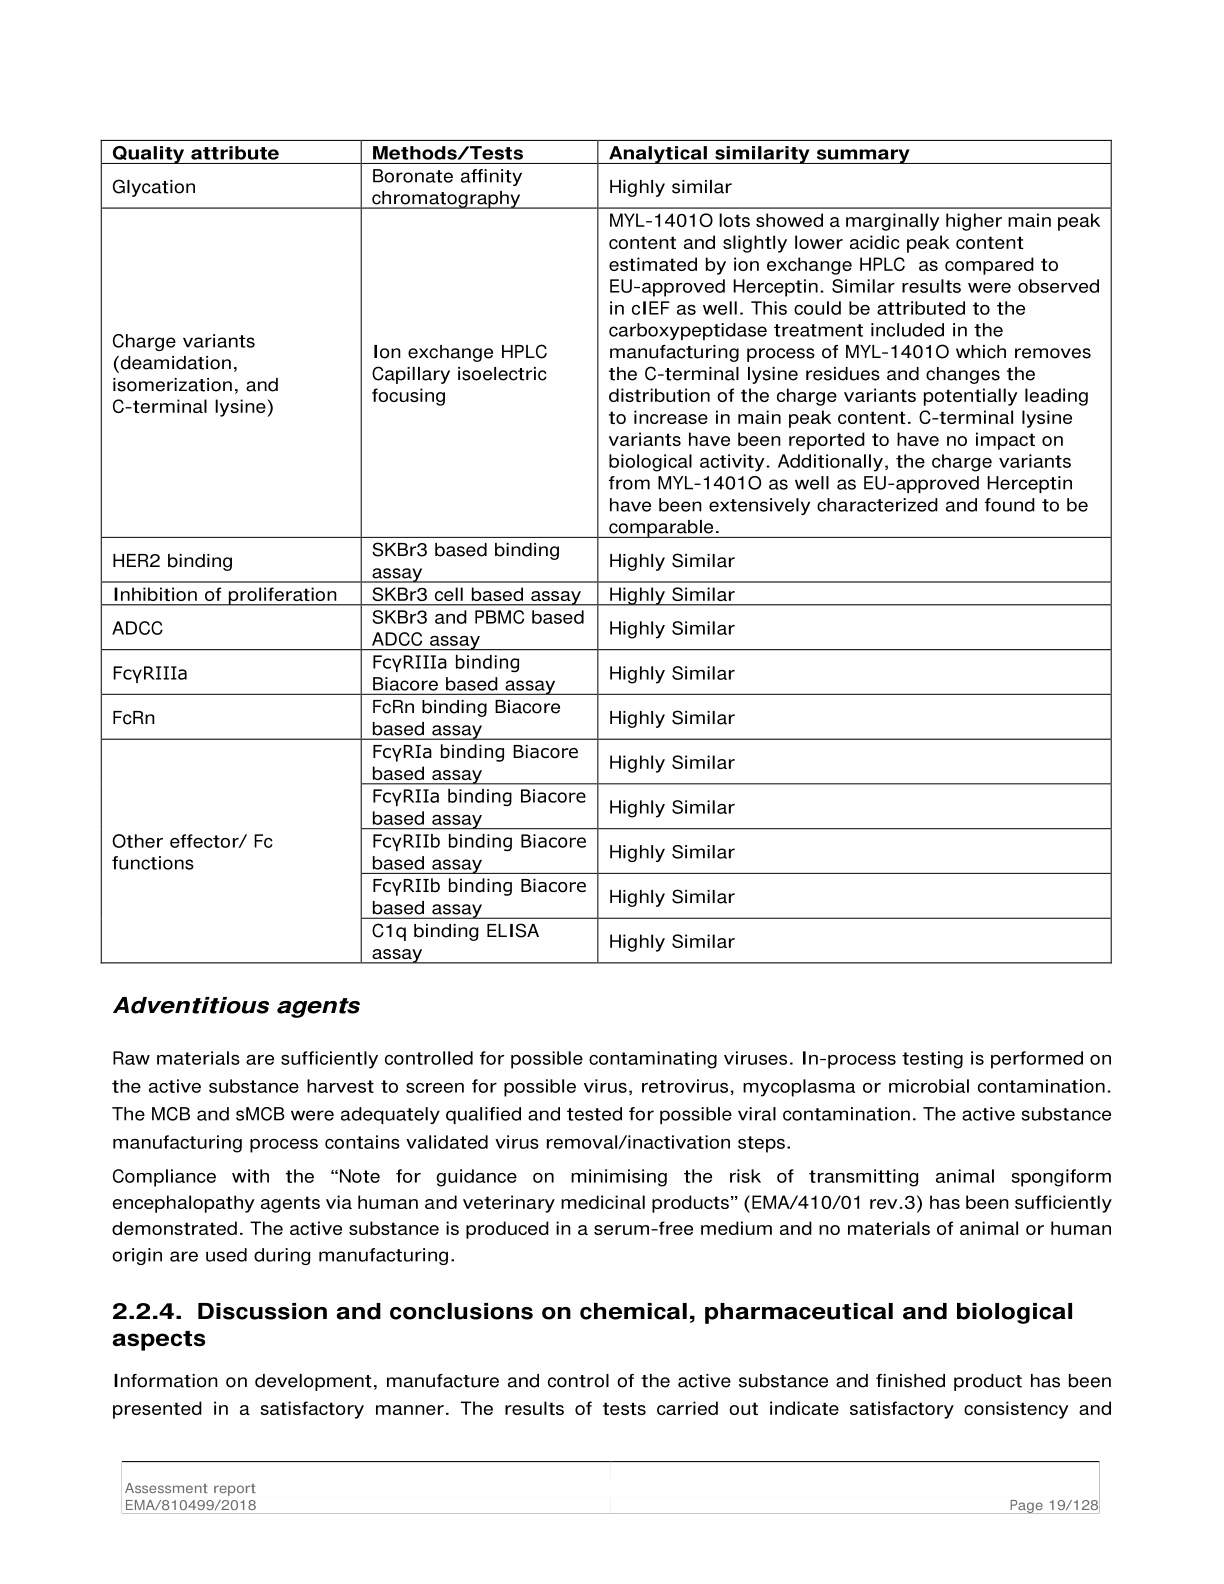merged_cells: (99, 138, 1113, 966)
